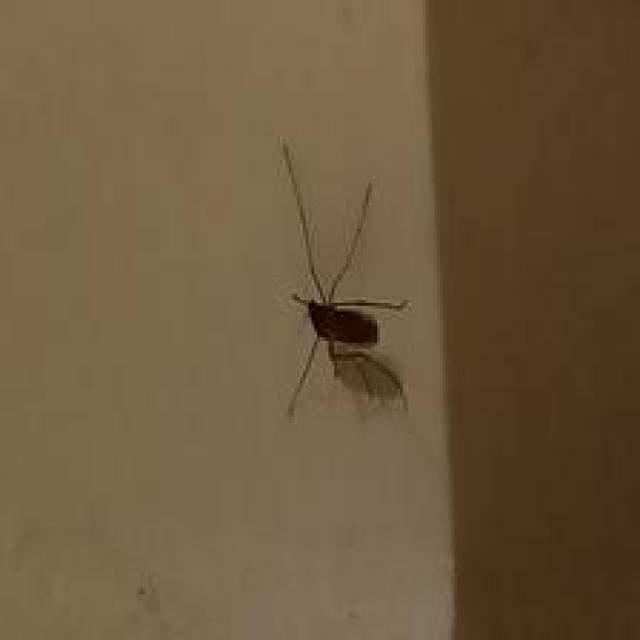Culex: (276, 136, 413, 421)
